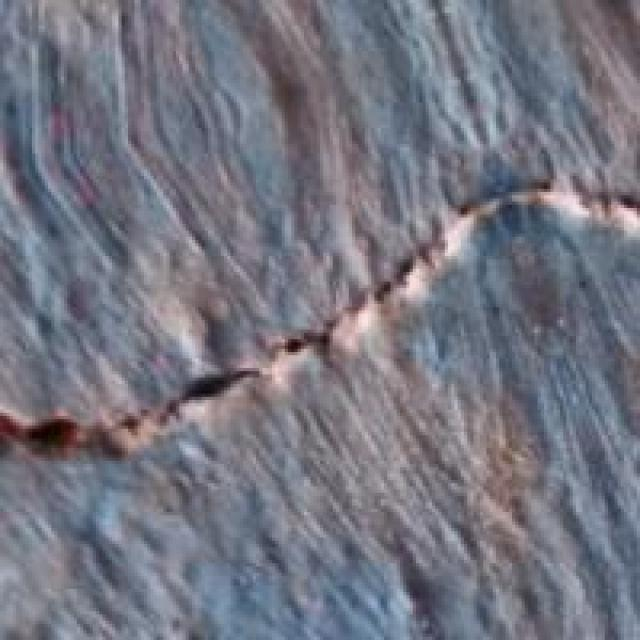crack: (3, 173, 637, 480)
